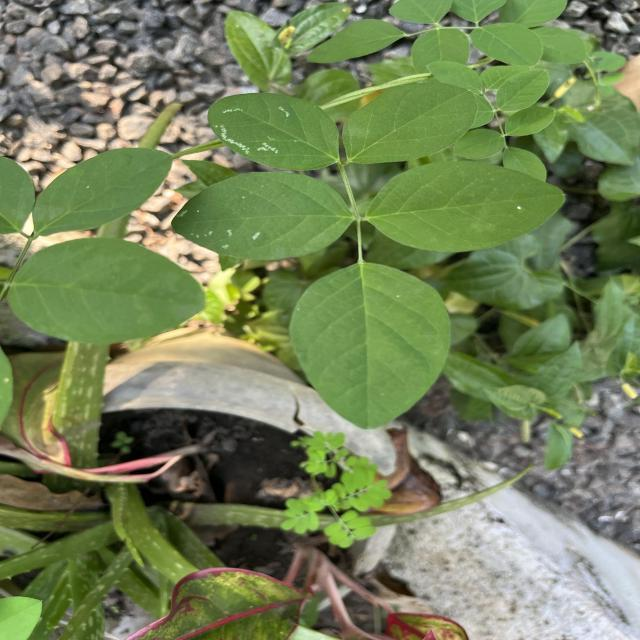Clitoria ternatea: (284, 260, 454, 432), (364, 159, 566, 254), (168, 170, 354, 262), (340, 80, 478, 166), (205, 90, 341, 174)
